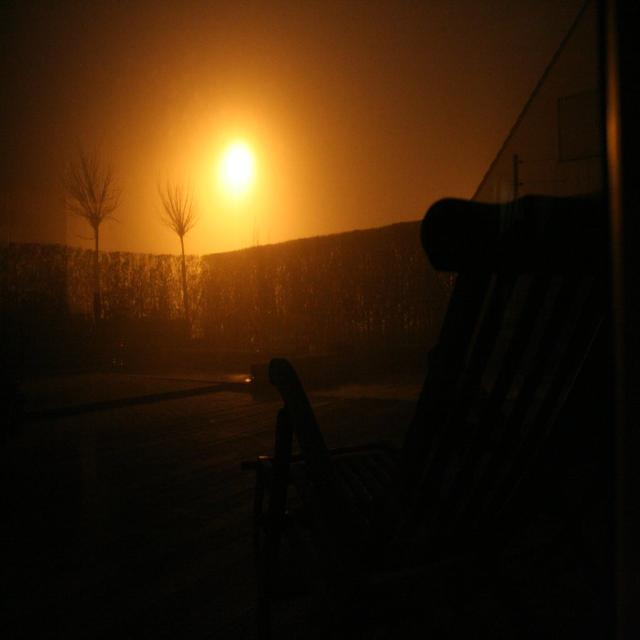chair: (249, 171, 640, 640)
